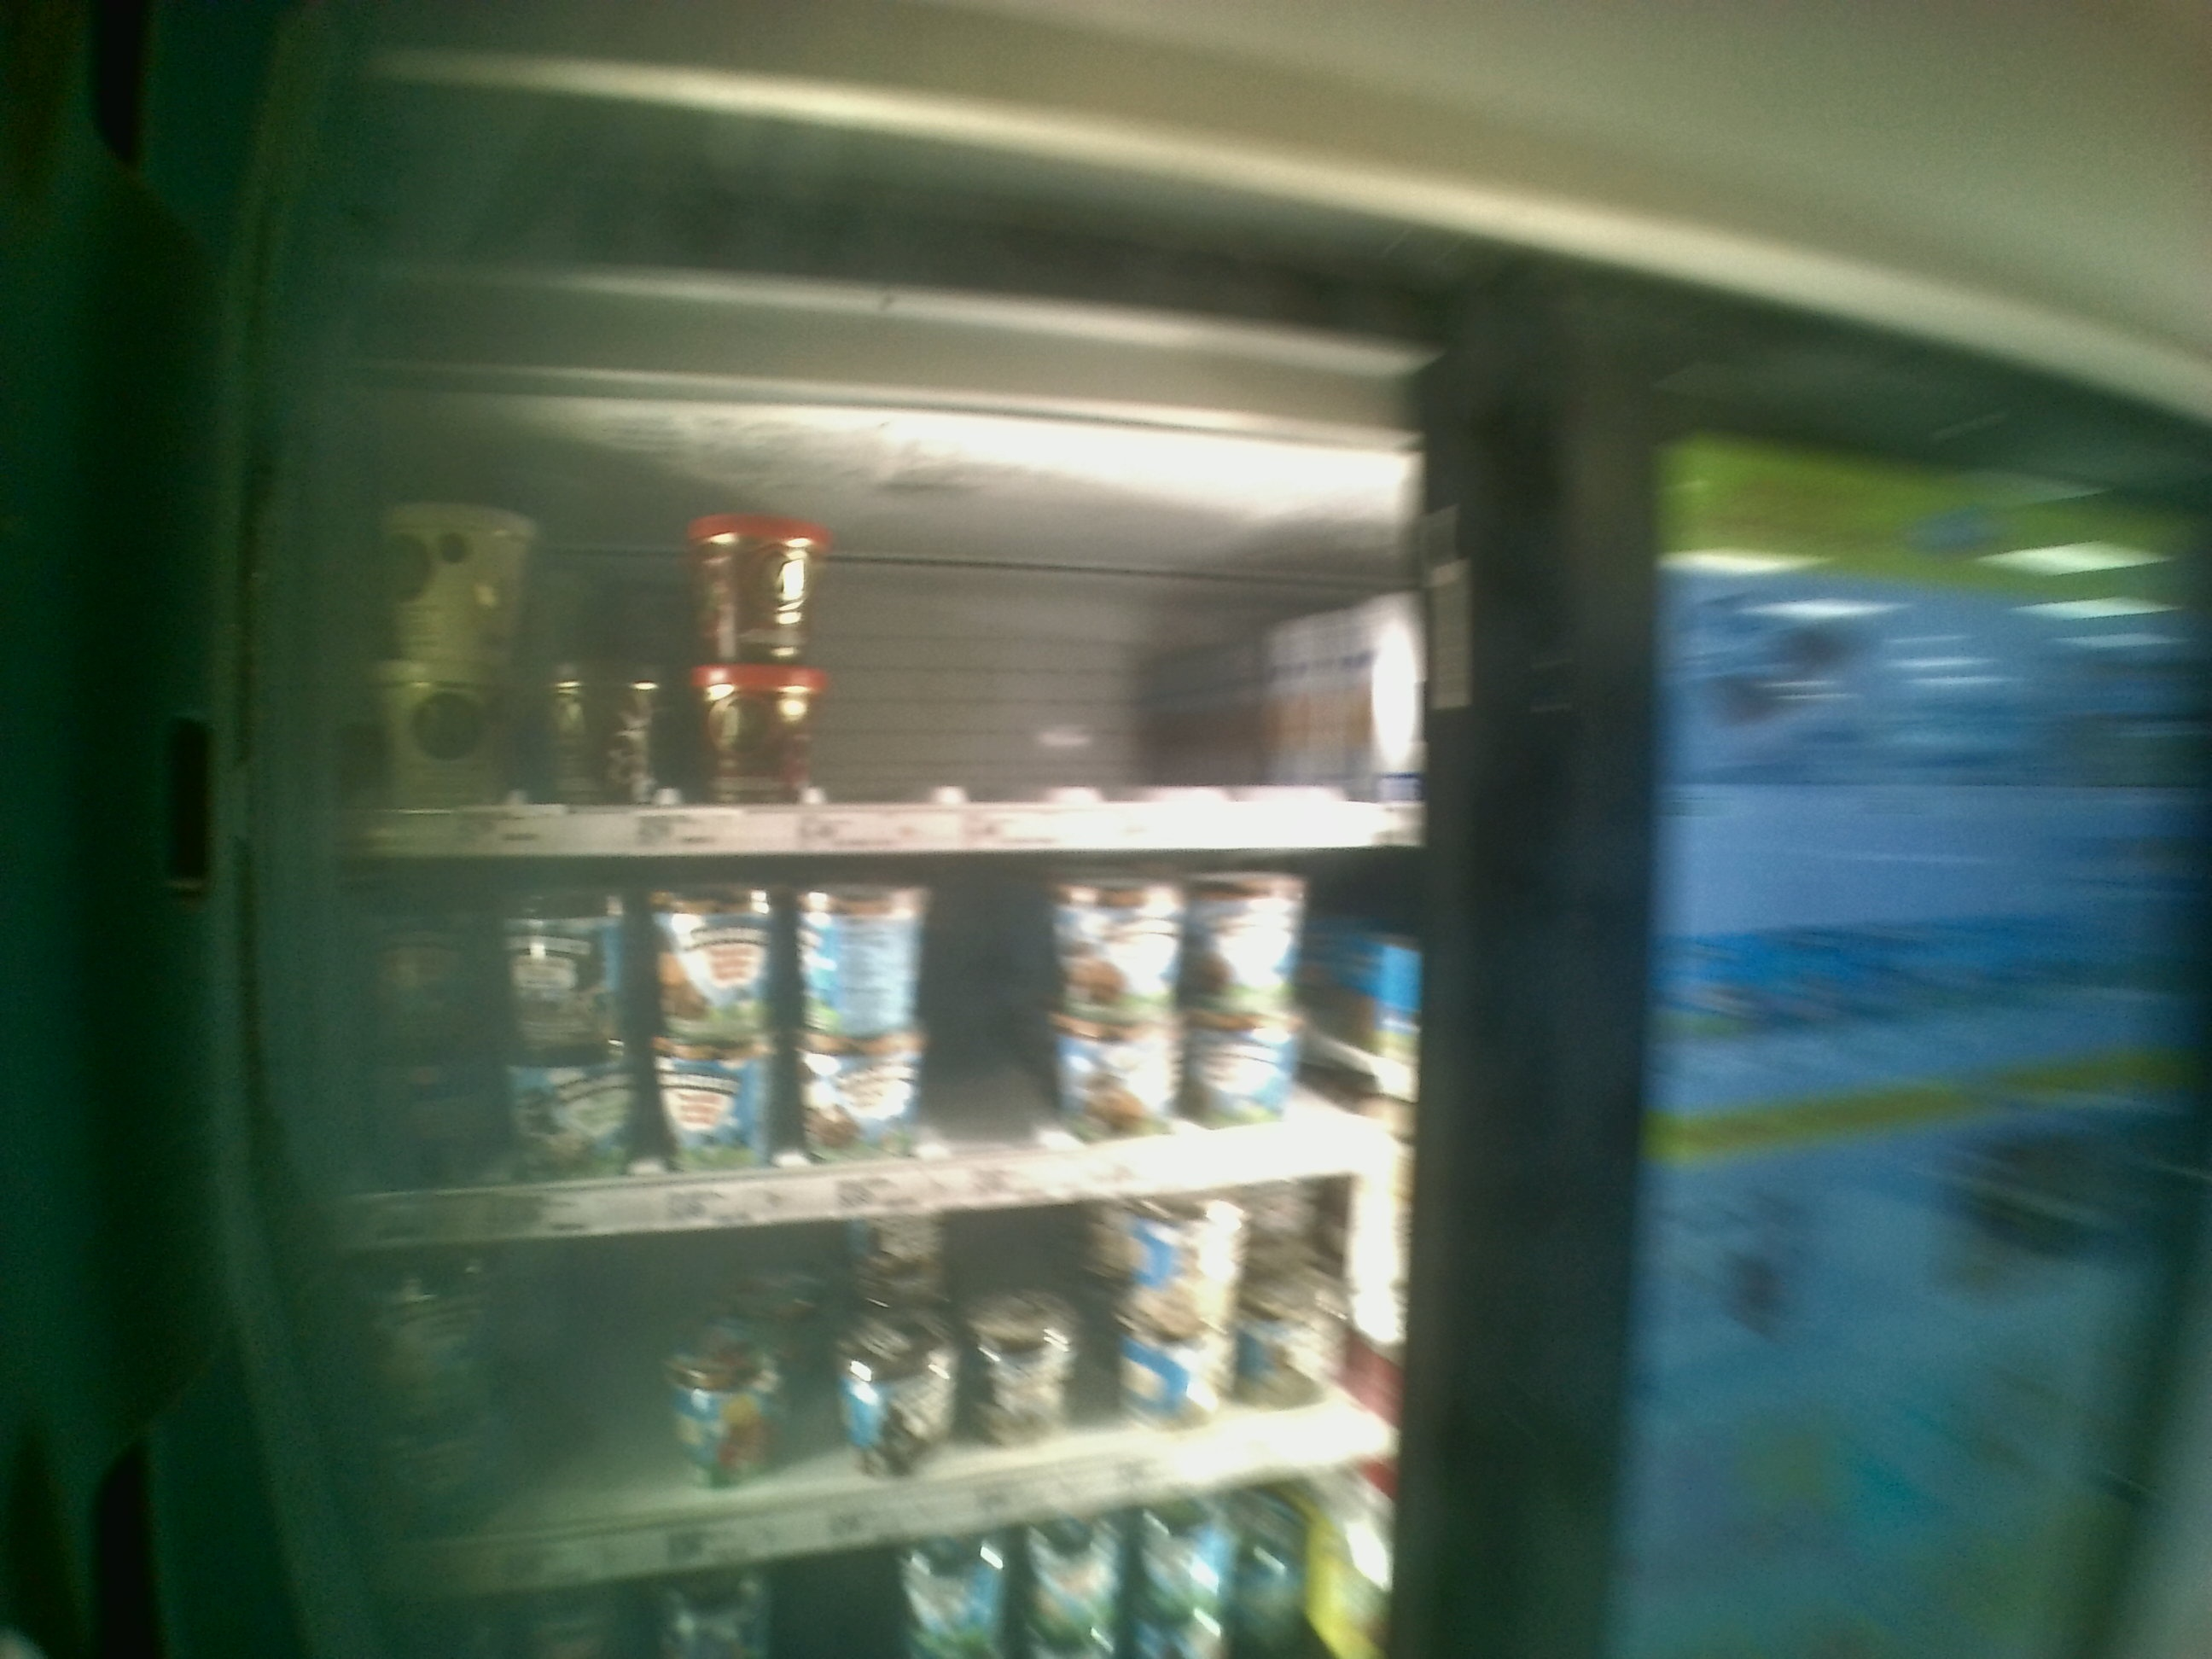shelf: (348, 385, 1430, 854), (347, 857, 1420, 1246)
